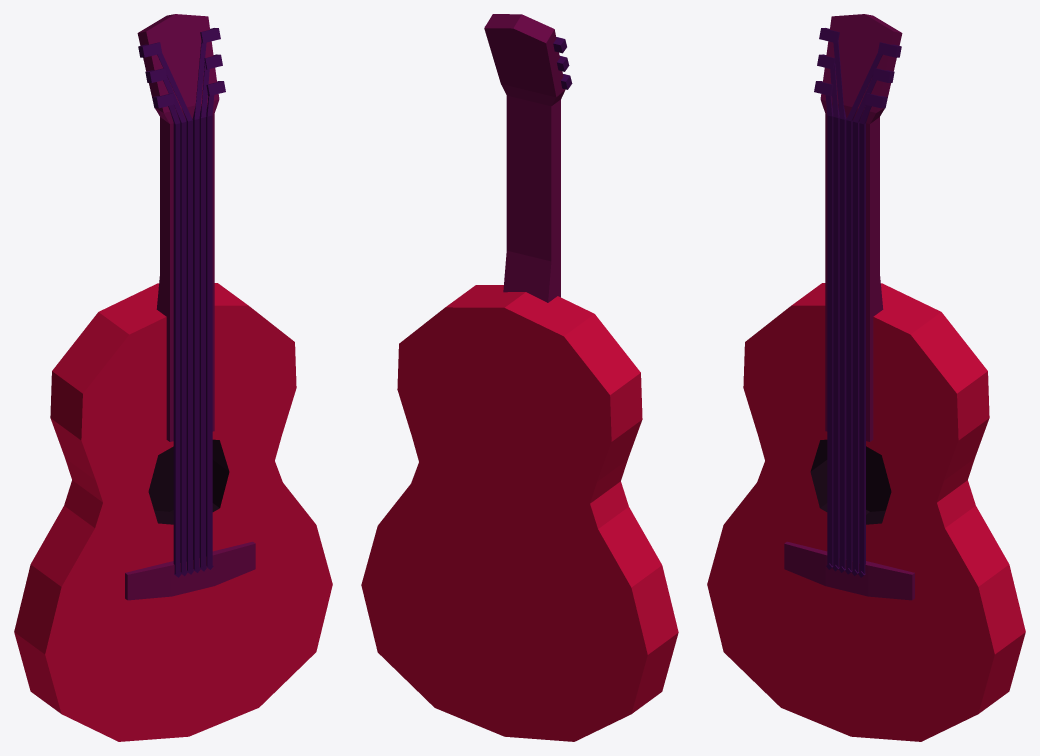
File: AcousticGuitar_01.fbx
The picture shows the model from 3 angles, left to right: view 1: azimuth 30°, elevation 25°; view 2: azimuth 150°, elevation 25°; view 3: azimuth 330°, elevation 25°; orthographic projection.
Parts seen in each view (by area): view 1: AcousticGuitar_01; view 2: AcousticGuitar_01; view 3: AcousticGuitar_01.
Boxes of the visible parts, x1,y1,x2,y2 form: AcousticGuitar_01: [14, 14, 332, 741]; AcousticGuitar_01: [361, 14, 678, 741]; AcousticGuitar_01: [707, 14, 1025, 741].
Size of the model in its own units: 4.16 by 9.84 by 0.9207.
